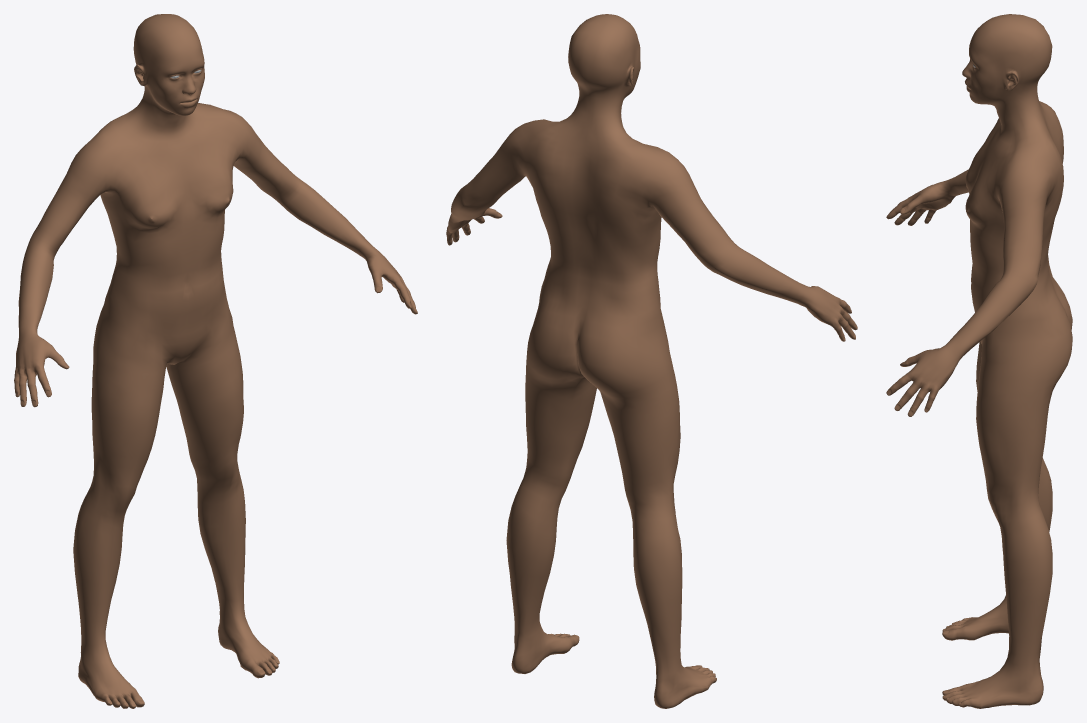
Rendered from base_data.obj.
3 views of the same model, side by side, from view 1: azimuth 30°, elevation 25°; view 2: azimuth 150°, elevation 25°; view 3: azimuth 270°, elevation 25° (orthographic).
Parts seen in each view (by area): view 1: base.obj; view 2: base.obj; view 3: base.obj.
Boxes of the visible parts, bbox=[...] form: base.obj: bbox=[14, 14, 417, 708]; base.obj: bbox=[446, 14, 857, 708]; base.obj: bbox=[886, 14, 1072, 708].
Size of the model in its own units: 1.05 by 1.66 by 0.43.
